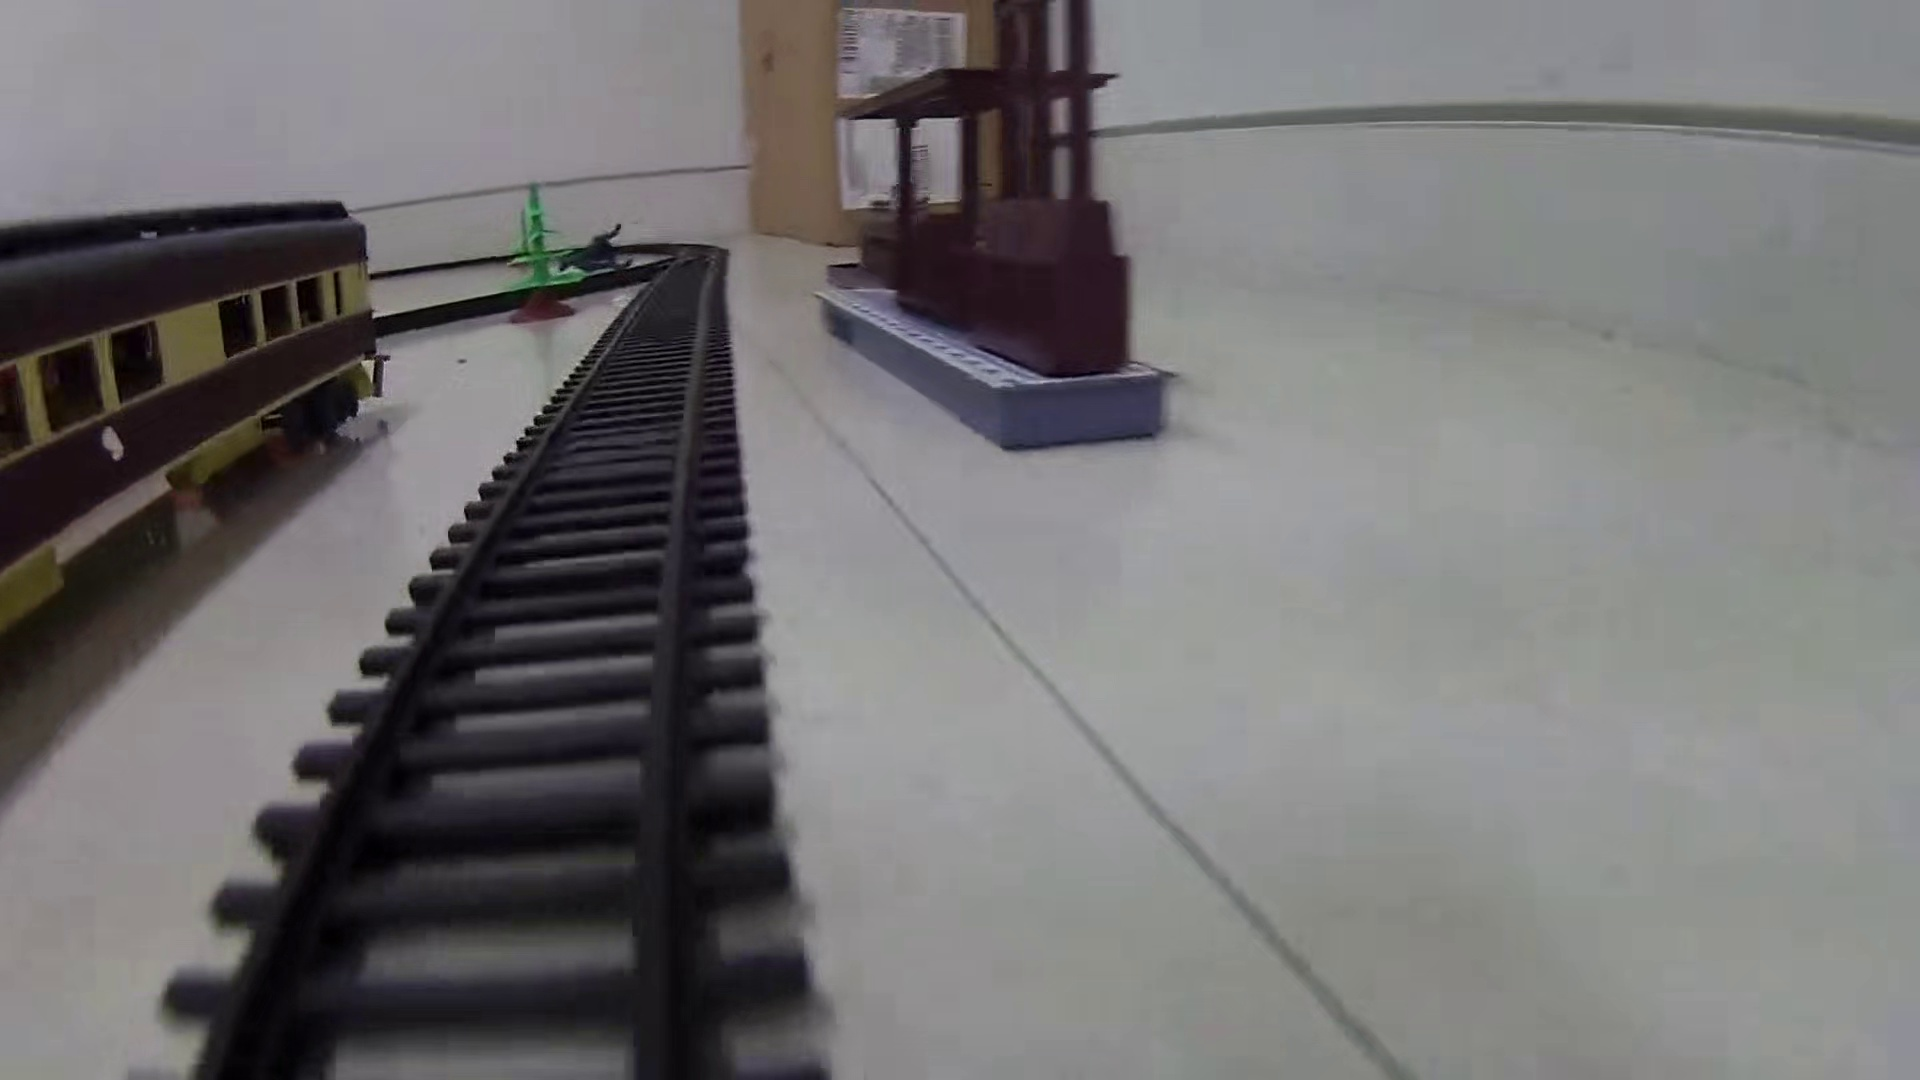people: (553, 222, 638, 276)
tree: (509, 183, 582, 325)
